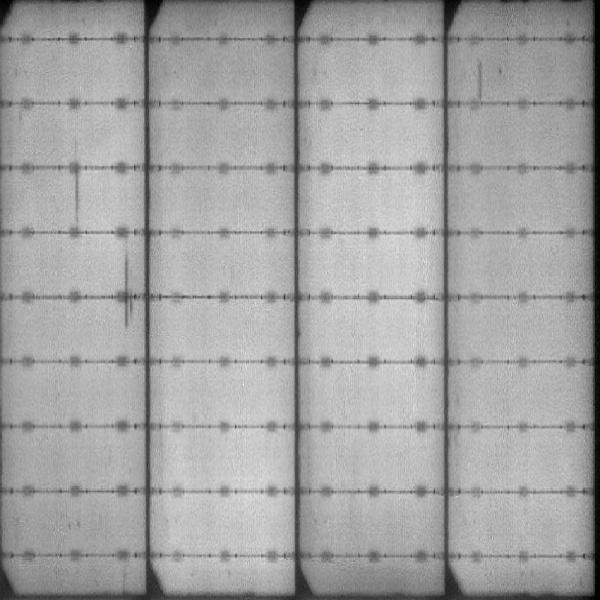scratch: (119, 242, 135, 327), (68, 149, 83, 225), (474, 60, 486, 104)
